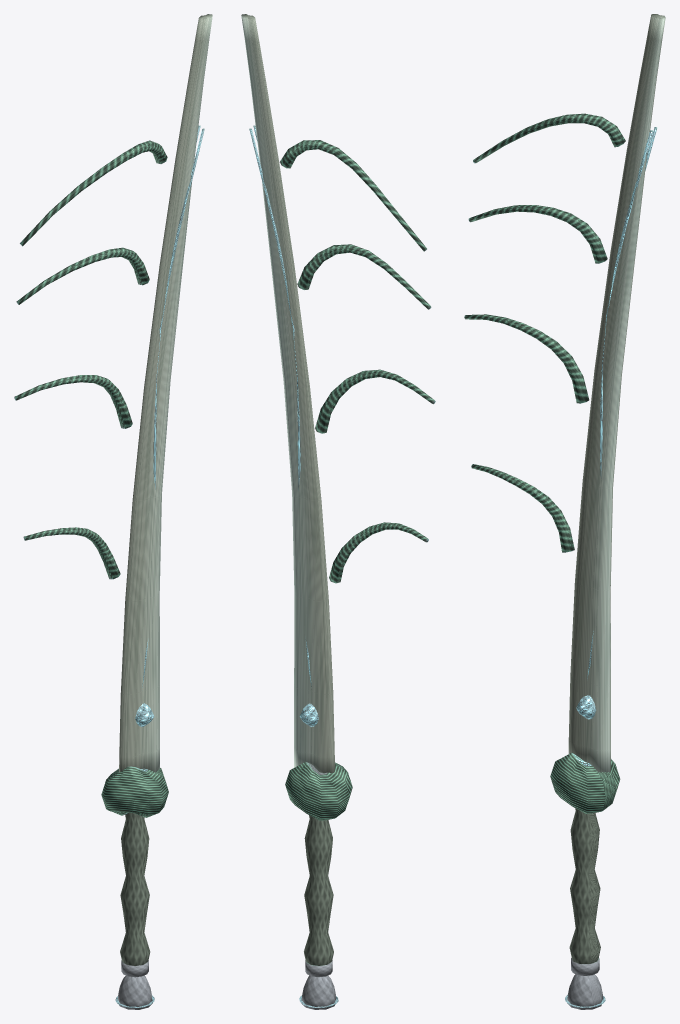
The model's file is sword_03_spirit_willow.glb.
3 renders of one model, left to right at view 1: azimuth 30°, elevation 25°; view 2: azimuth 150°, elevation 25°; view 3: azimuth 330°, elevation 25°, orthographic. The views are drawn at different scales.
Parts seen in each view (by area): view 1: Blade_WillowSaber, Fronds_DroopingWillow, Grip_GhostWillowWrap, Guard_WillowKnot, Pommel_HangingBell, Inlay_EtherealSeam; view 2: Blade_WillowSaber, Fronds_DroopingWillow, Grip_GhostWillowWrap, Guard_WillowKnot, Pommel_HangingBell, Inlay_EtherealSeam; view 3: Blade_WillowSaber, Fronds_DroopingWillow, Grip_GhostWillowWrap, Guard_WillowKnot, Inlay_EtherealSeam, Pommel_HangingBell.
Boxes of the visible parts, box(x1,y1,x2,y2) form: Blade_WillowSaber: box(119, 14, 212, 772); Fronds_DroopingWillow: box(14, 140, 167, 579); Grip_GhostWillowWrap: box(120, 812, 150, 965); Guard_WillowKnot: box(101, 766, 168, 817); Pommel_HangingBell: box(115, 975, 154, 1009); Inlay_EtherealSeam: box(142, 125, 204, 687); Blade_WillowSaber: box(241, 14, 334, 772); Fronds_DroopingWillow: box(280, 140, 435, 583); Grip_GhostWillowWrap: box(304, 815, 333, 965); Guard_WillowKnot: box(285, 762, 352, 820); Pommel_HangingBell: box(299, 975, 338, 1009); Inlay_EtherealSeam: box(249, 125, 311, 686); Blade_WillowSaber: box(568, 14, 665, 772); Fronds_DroopingWillow: box(464, 113, 625, 552); Grip_GhostWillowWrap: box(569, 808, 600, 963); Guard_WillowKnot: box(550, 753, 620, 813); Inlay_EtherealSeam: box(587, 127, 657, 678); Pommel_HangingBell: box(565, 974, 605, 1009).
Bounding box in the file's own units: 0.5492 × 2.6 × 0.1379.
Materials: 1 (1 with a texture image).
